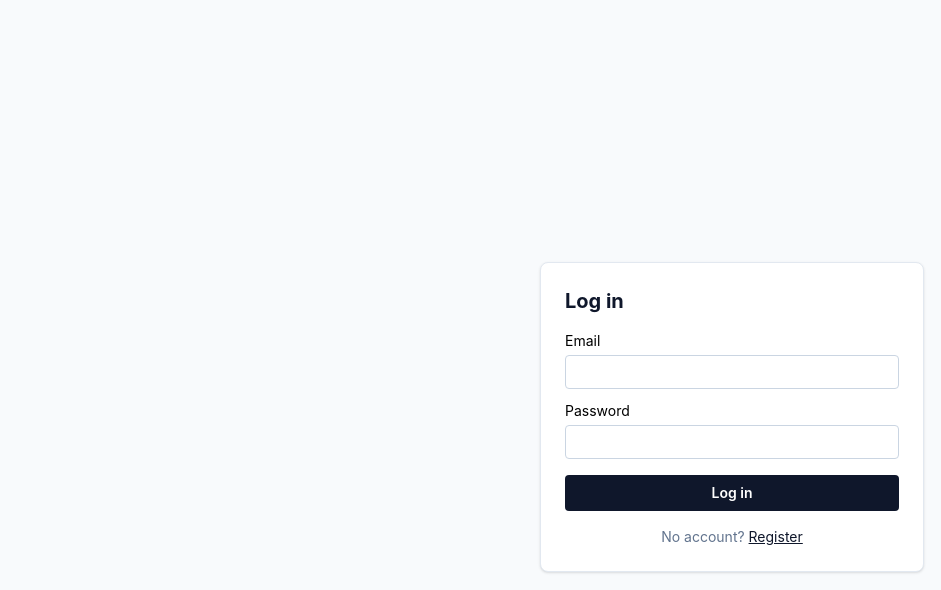
Test: LoginPage › logs in and navigates home on success
The image size is (941, 590).
Type "a@b.com" into the field labelled "Email" at (732, 372), box left=565, top=355, right=899, bottom=389
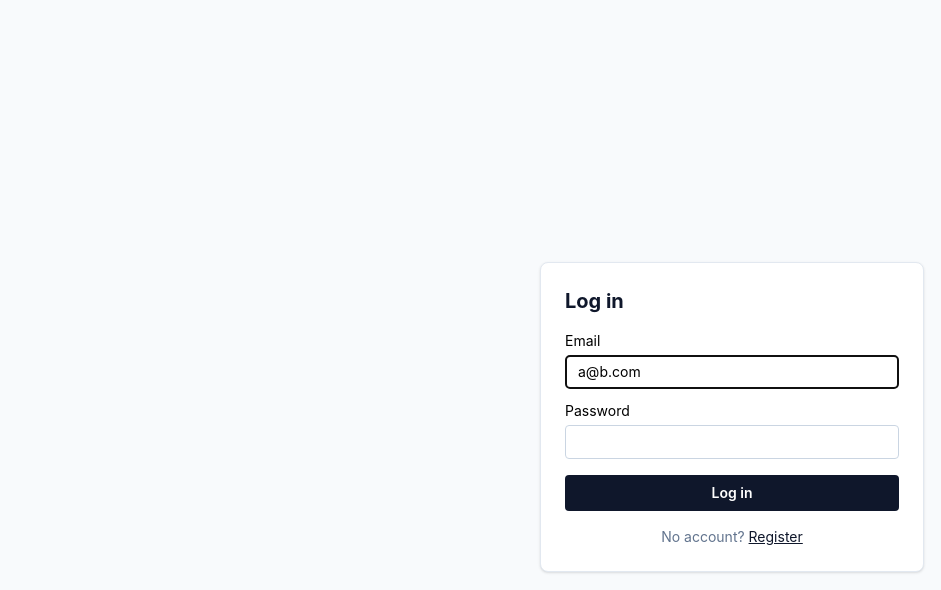
Type "password123" into the password field labelled "Password" at (732, 442), box left=565, top=425, right=899, bottom=459
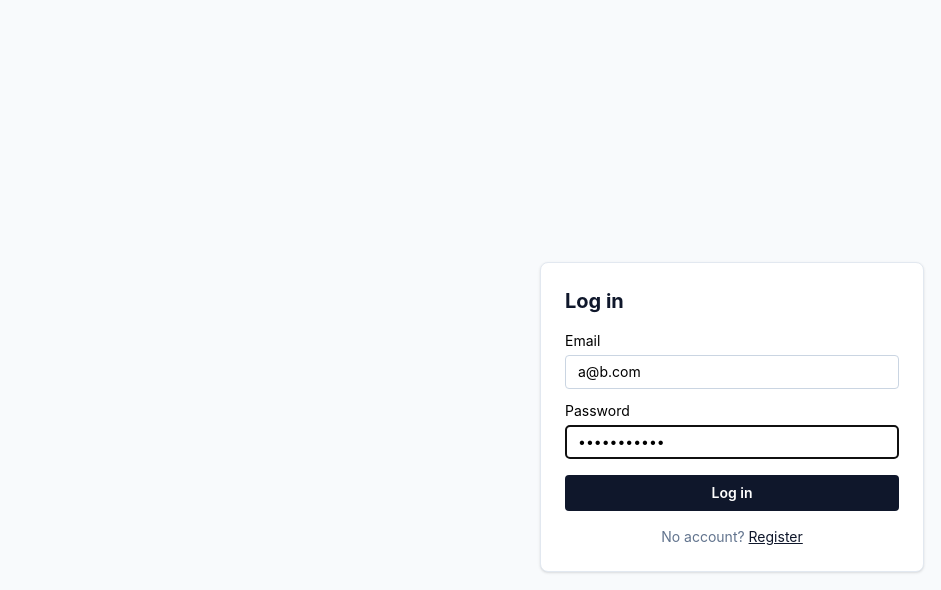
Click the button "Log in" at (732, 493), box left=565, top=475, right=899, bottom=511
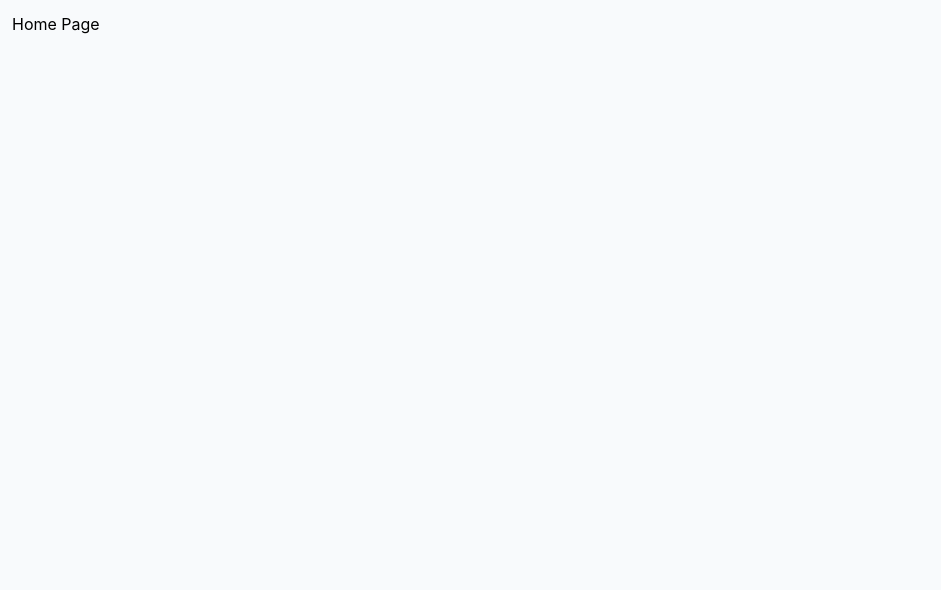
Expected: the text "Home Page" is shown, left=12, top=14, right=100, bottom=34
